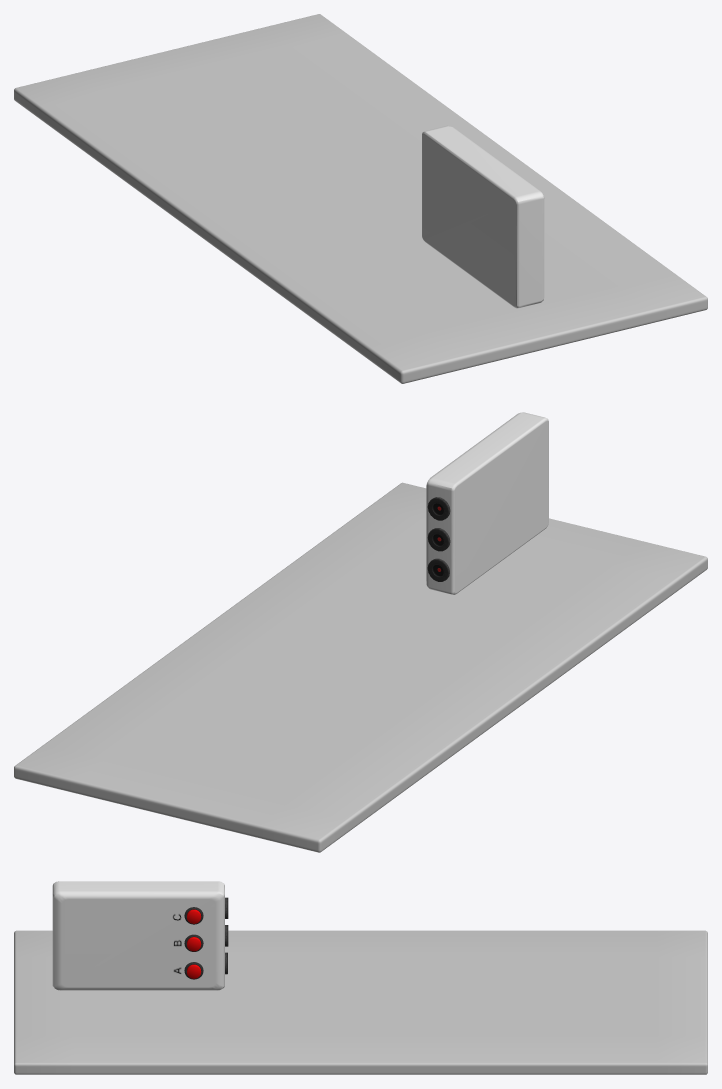
Rendered from Light_Experiment.gltf.
The picture shows the model from 3 angles, top to bottom: view 1: azimuth 30°, elevation 25°; view 2: azimuth 150°, elevation 25°; view 3: azimuth 270°, elevation 25°; orthographic projection. The views are drawn at different scales.
Visible parts, largest first — view 1: Table, _holes_laser_pointer; view 2: Table, _holes_laser_pointer; view 3: Table, _holes_laser_pointer.
Part boxes in pixels (bbox=[...]): Table: bbox=[14, 14, 707, 383]; _holes_laser_pointer: bbox=[422, 125, 544, 308]; Table: bbox=[14, 482, 707, 852]; _holes_laser_pointer: bbox=[426, 412, 548, 594]; Table: bbox=[14, 930, 707, 1074]; _holes_laser_pointer: bbox=[52, 881, 228, 990].
Size of the model in its own units: 4.81 by 2.03 by 10.53.
